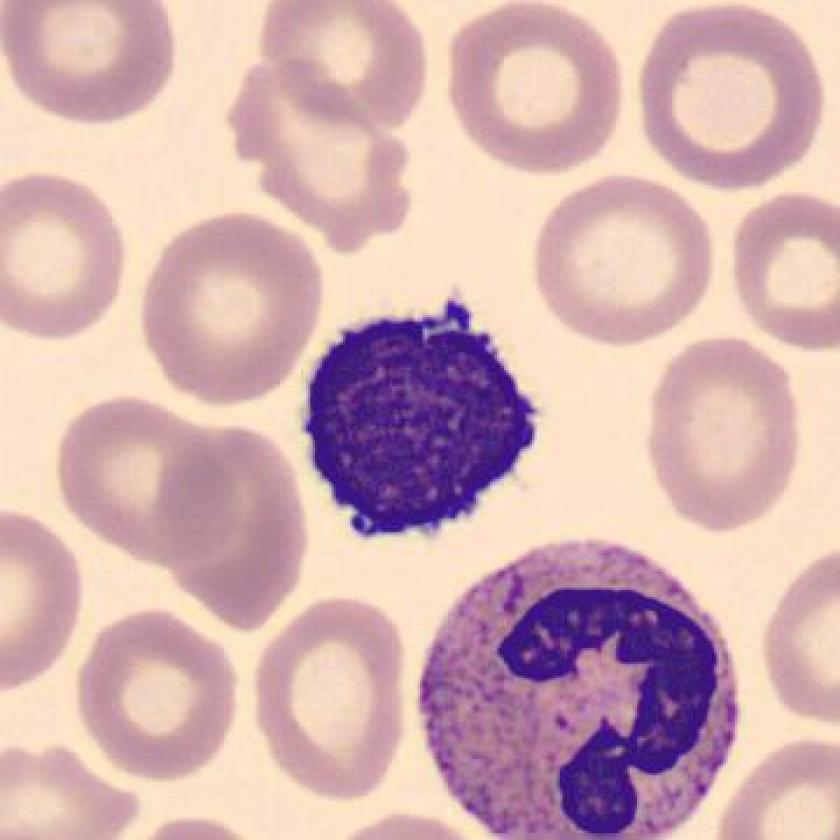lymphocyte: (286, 283, 549, 559)
